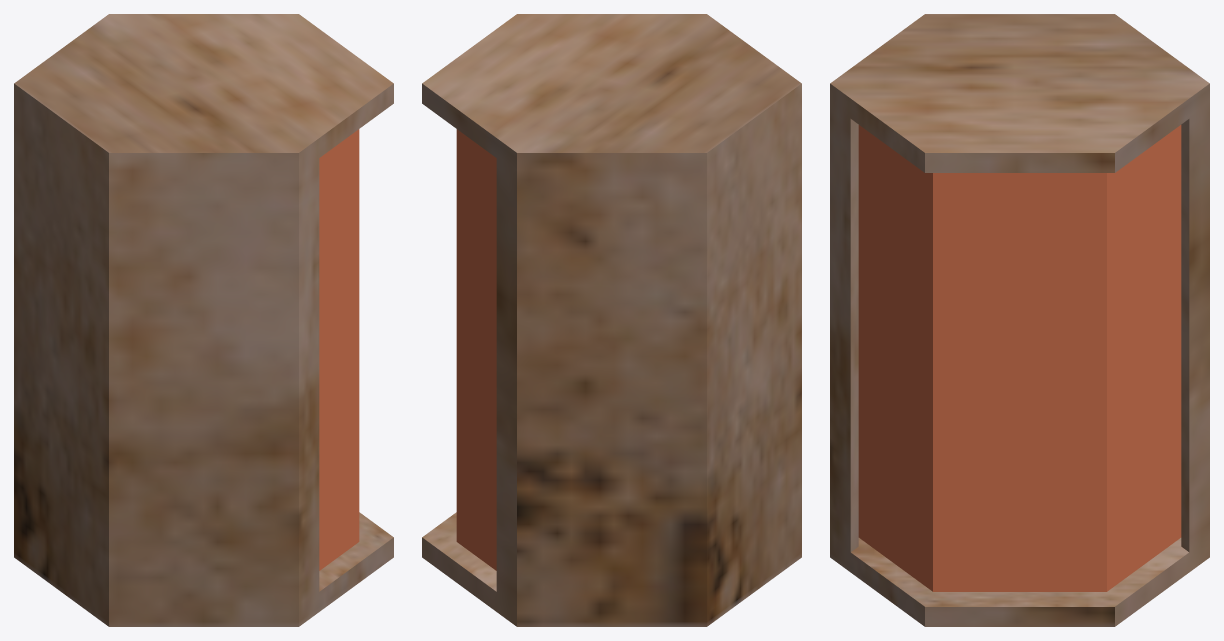
The picture shows the model from 3 angles, left to right: view 1: azimuth 30°, elevation 25°; view 2: azimuth 150°, elevation 25°; view 3: azimuth 270°, elevation 25°; orthographic projection.
Visible parts, largest first — view 1: Cylinder.001, Cylinder.002; view 2: Cylinder.001, Cylinder.002; view 3: Cylinder.002, Cylinder.001.
Part boxes in pixels (x1,y1,x2,y2): Cylinder.001: (14,14,393,626); Cylinder.002: (319,129,359,570); Cylinder.001: (422,14,801,626); Cylinder.002: (456,129,496,570); Cylinder.002: (858,125,1181,591); Cylinder.001: (830,14,1209,626).
Size of the model in its own units: 1.73 by 2.75 by 2.
Materials: 2 (1 with a texture image).
